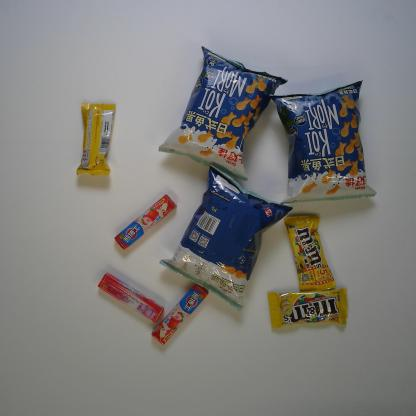Candy: (149, 283, 209, 347), (113, 194, 178, 252), (96, 272, 164, 324)
Chocolate: (283, 212, 337, 294), (265, 287, 349, 332), (73, 101, 117, 178)
Puffed Food: (159, 162, 294, 312), (155, 44, 289, 181), (269, 78, 377, 204)
